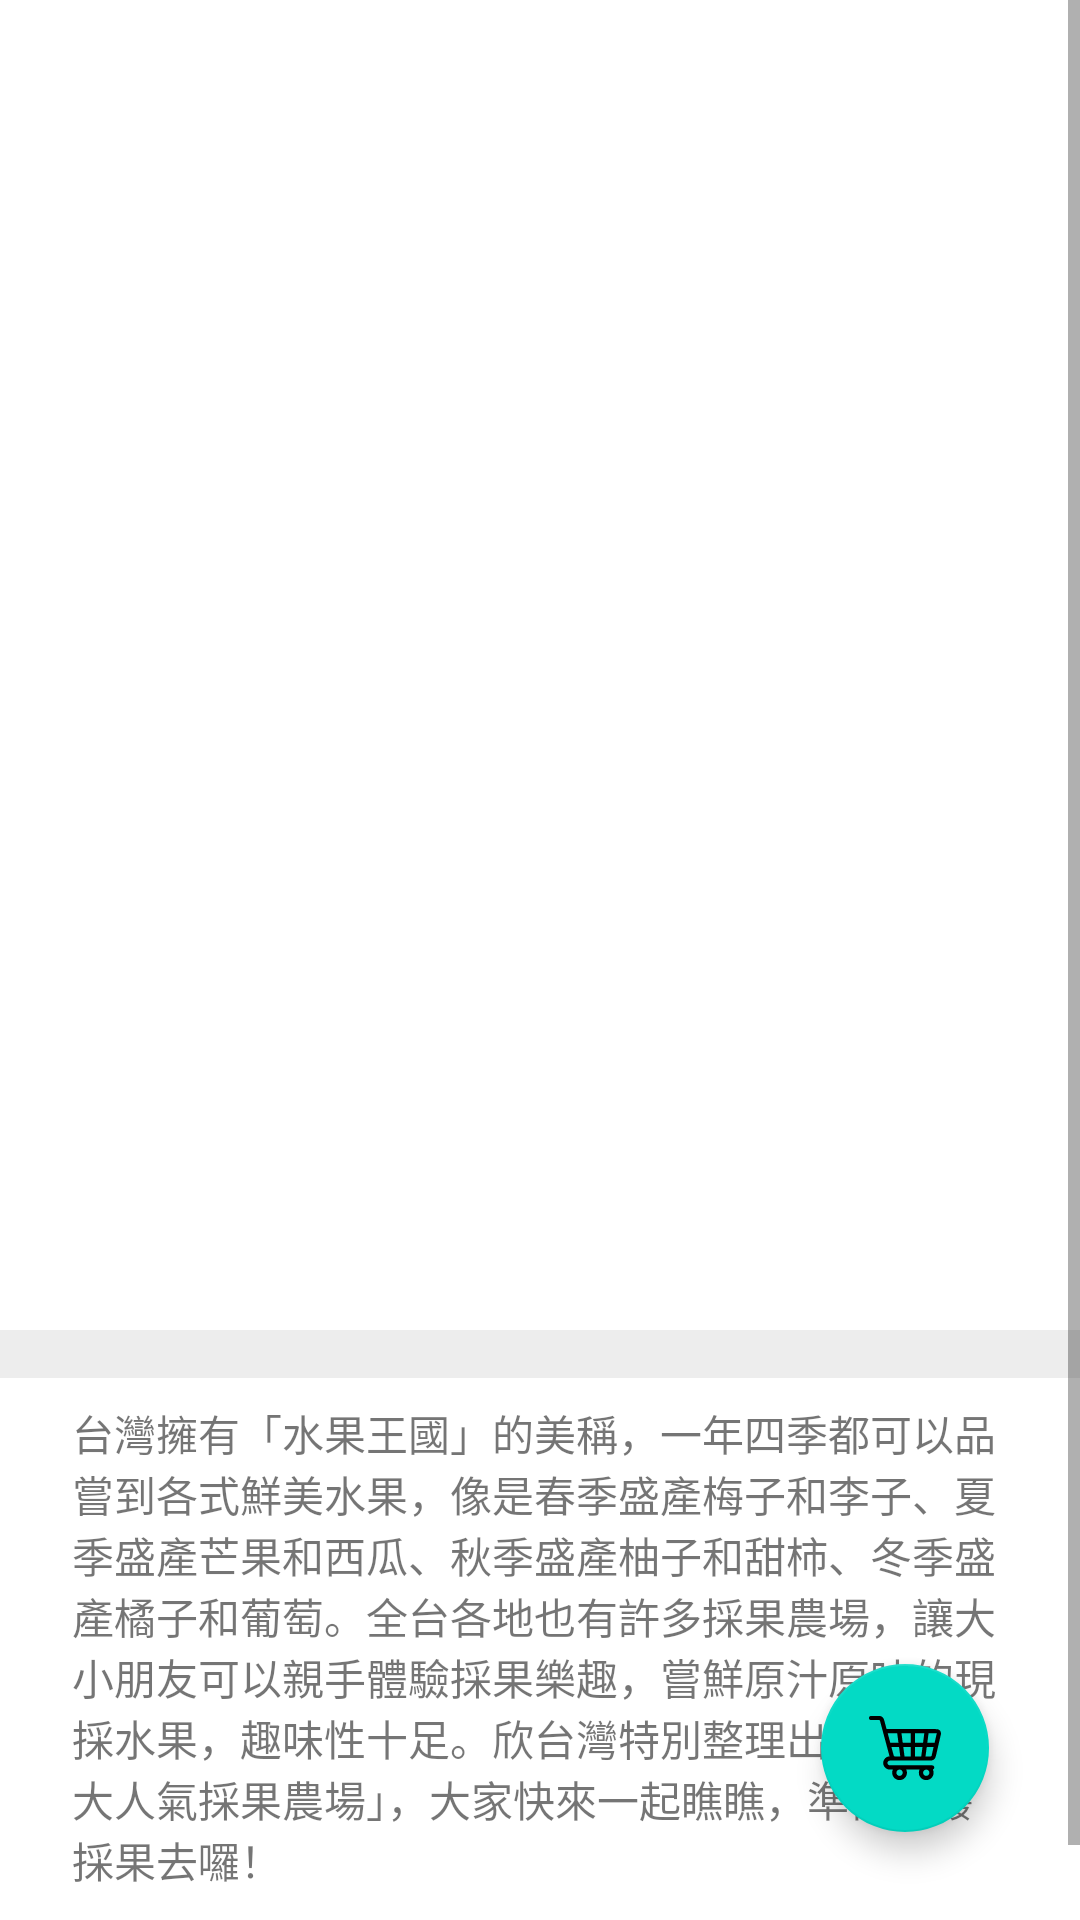

Locate icon controls on the screen. Image size 1080px x 1920px, boxes as (left=x1, top=y1, right=x2, bottom=y2).
shopping cart: (left=821, top=1664, right=989, bottom=1832)
